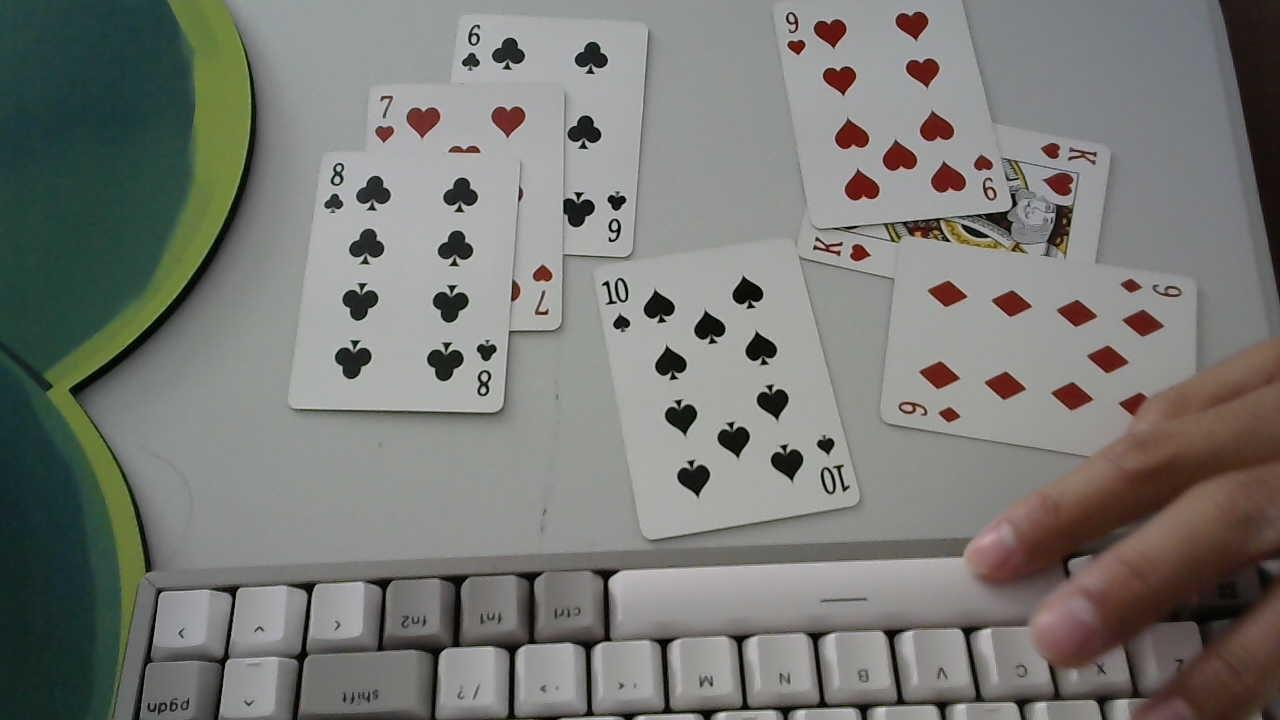10S: (812, 429, 856, 500), (598, 273, 639, 337)
6C: (600, 186, 631, 246), (459, 19, 486, 79)
7H: (529, 258, 556, 321), (372, 90, 396, 146)
8C: (471, 336, 501, 405), (320, 158, 349, 216)
9D: (891, 396, 966, 431), (1115, 266, 1187, 299)
9H: (970, 150, 1003, 207), (775, 8, 808, 57)
KH: (806, 230, 877, 268), (1035, 135, 1101, 169)
